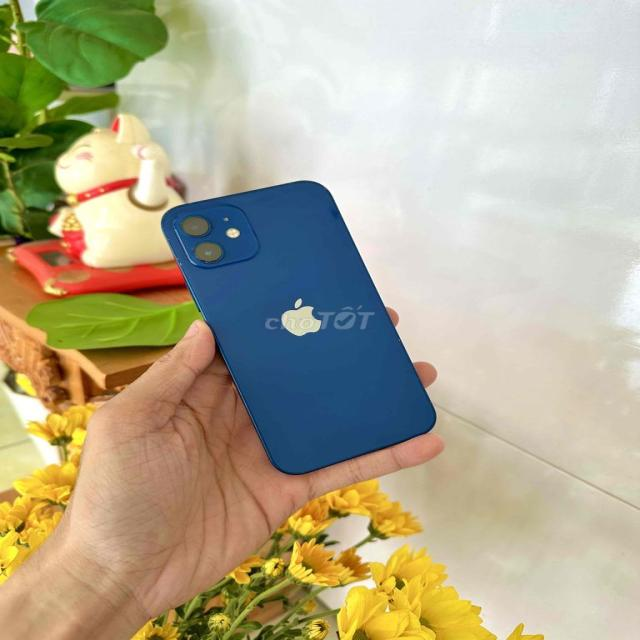gen_12_13: (160, 176, 445, 478)
